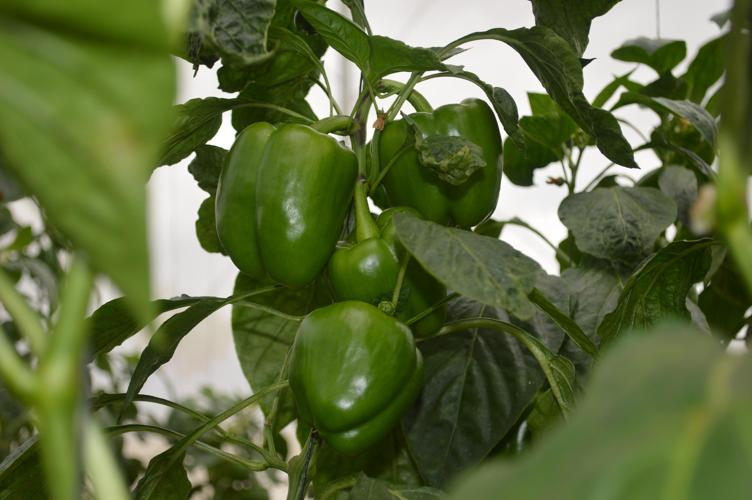BellPepper: (198, 115, 363, 285), (268, 308, 428, 459), (328, 208, 459, 354), (360, 101, 507, 226)
